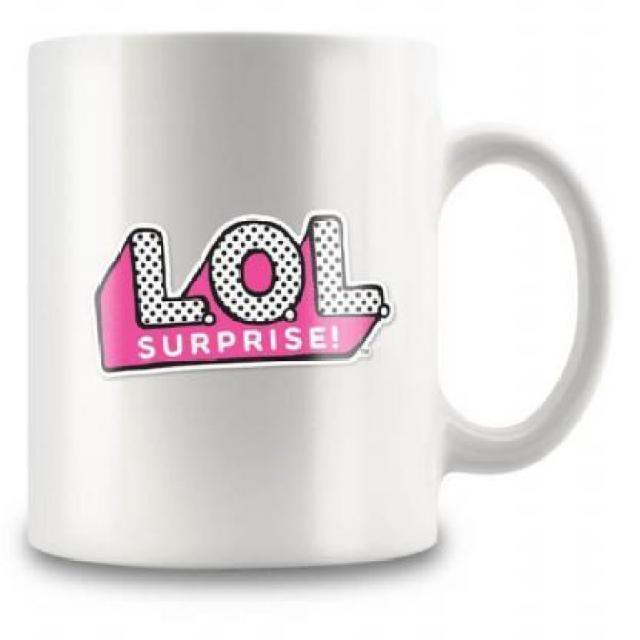taza: (29, 28, 612, 572)
